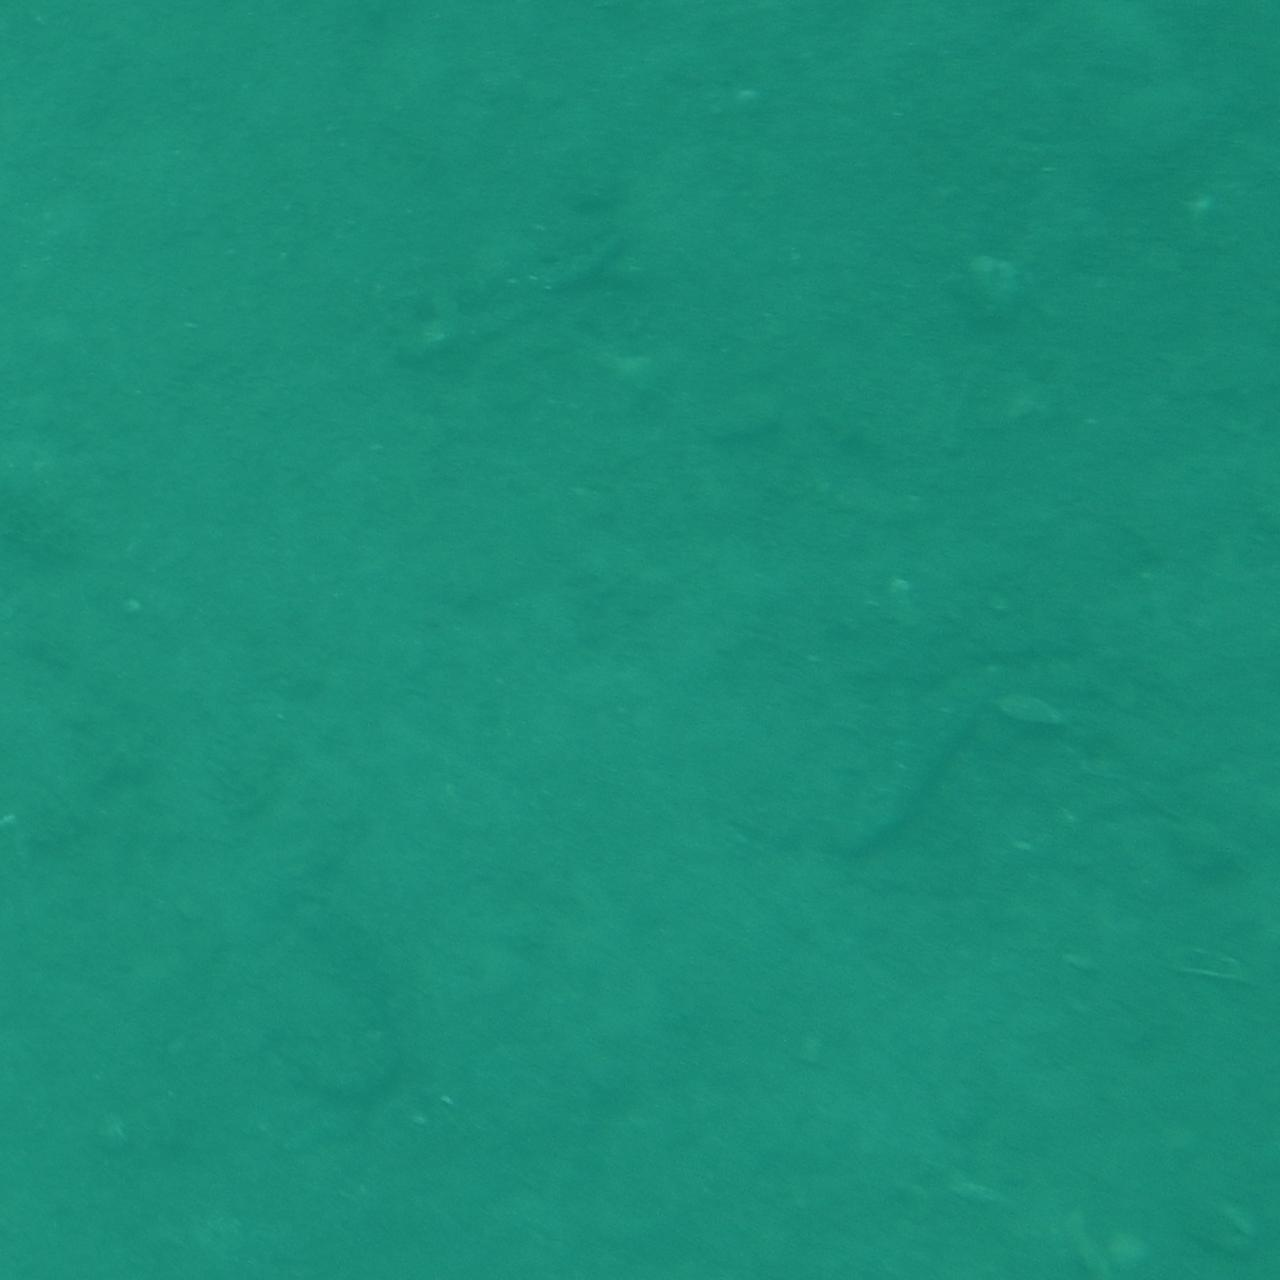Holothuria tubulosa: (823, 621, 1063, 851), (253, 815, 423, 1110), (367, 245, 669, 392)
